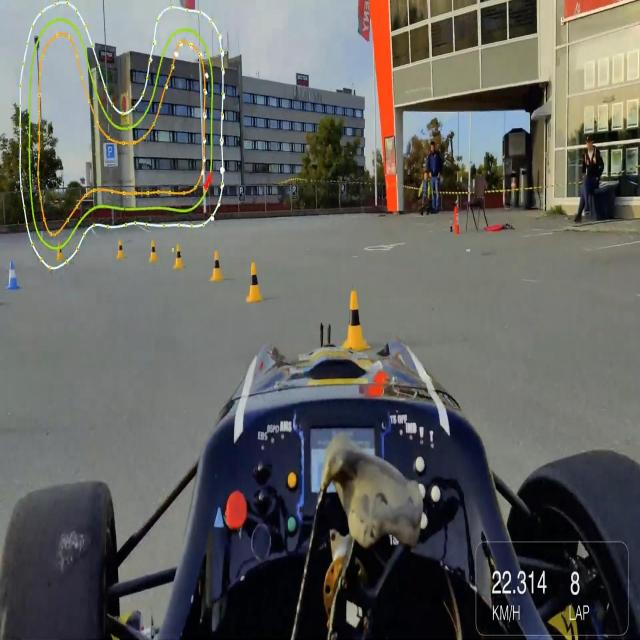blue_cone: (7, 256, 19, 290)
yellow_cone: (341, 288, 370, 349), (246, 261, 264, 303), (211, 247, 223, 284), (173, 242, 186, 272), (117, 238, 126, 260), (56, 241, 64, 265), (150, 238, 156, 264)
